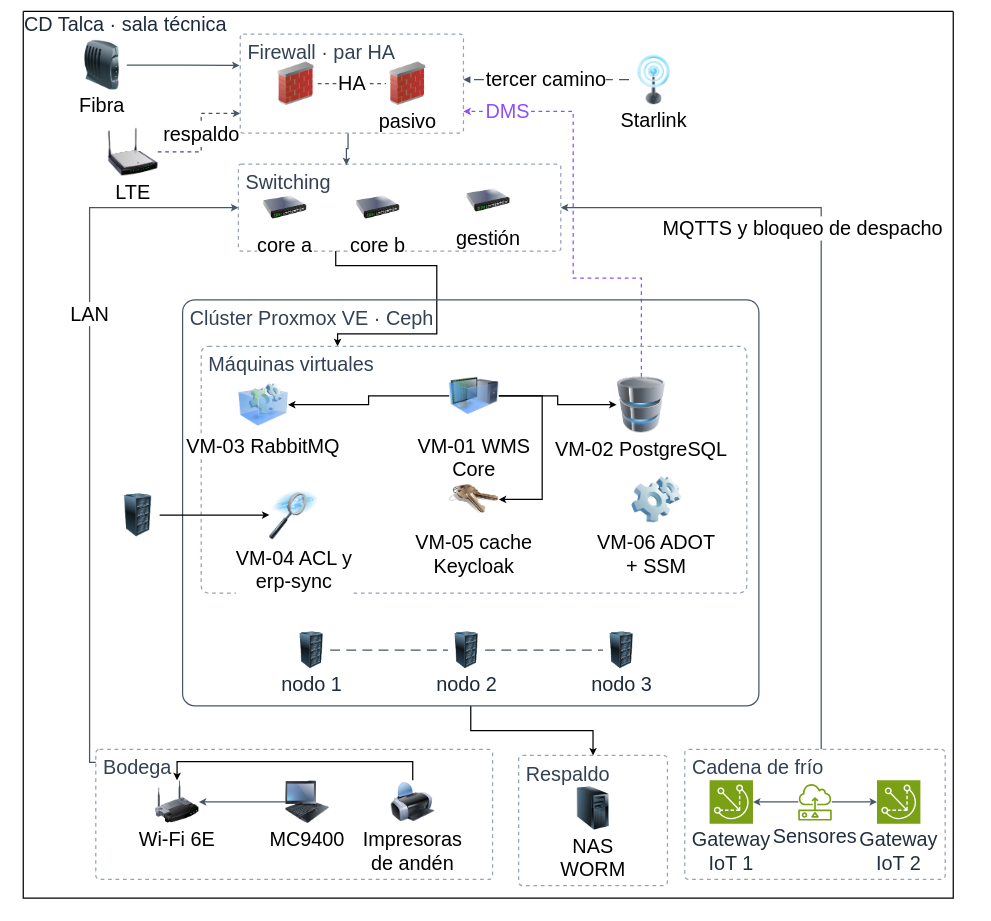
This 991x921 diagram has some shape labels left out. Here are the shapes that lost their labels. From the top down, the centre of each, then its label:
At [295,83]: "activo".
At [137,514]: "ERP 2017 rack R01".
